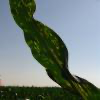Corn leaf blight: (10, 0, 97, 96)
